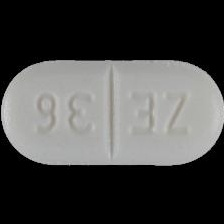68382-180: (0, 0, 224, 224)
